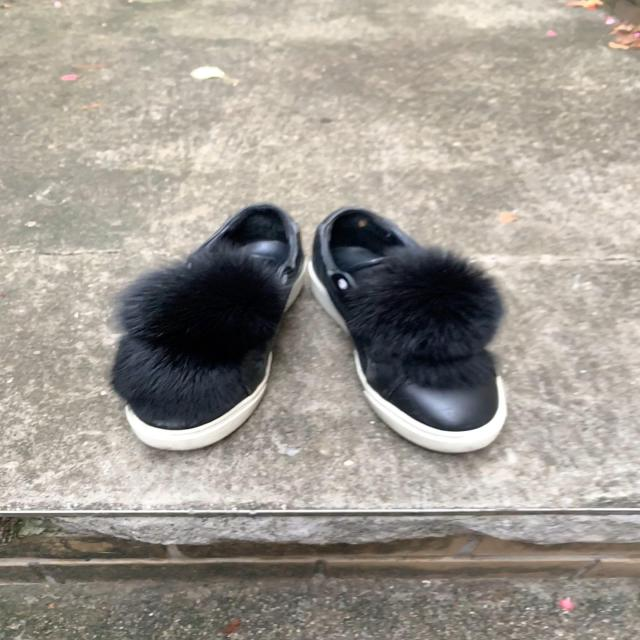shoe: (309, 207, 509, 458), (109, 204, 305, 455)
